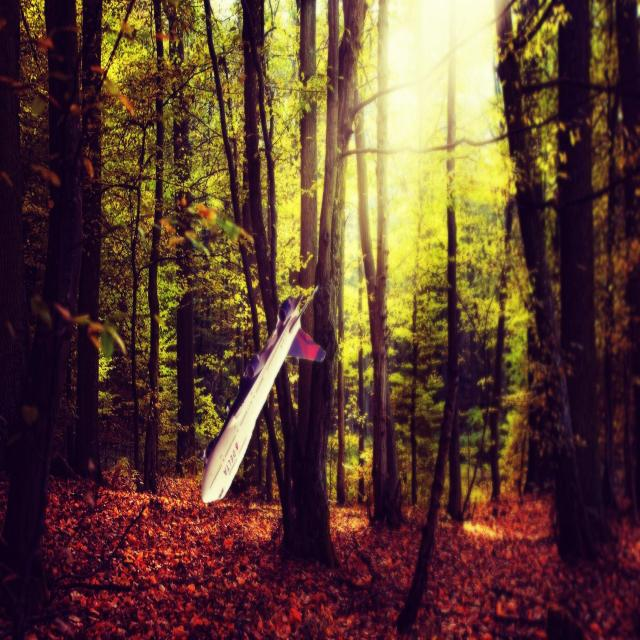airplane: (200, 283, 326, 504)
